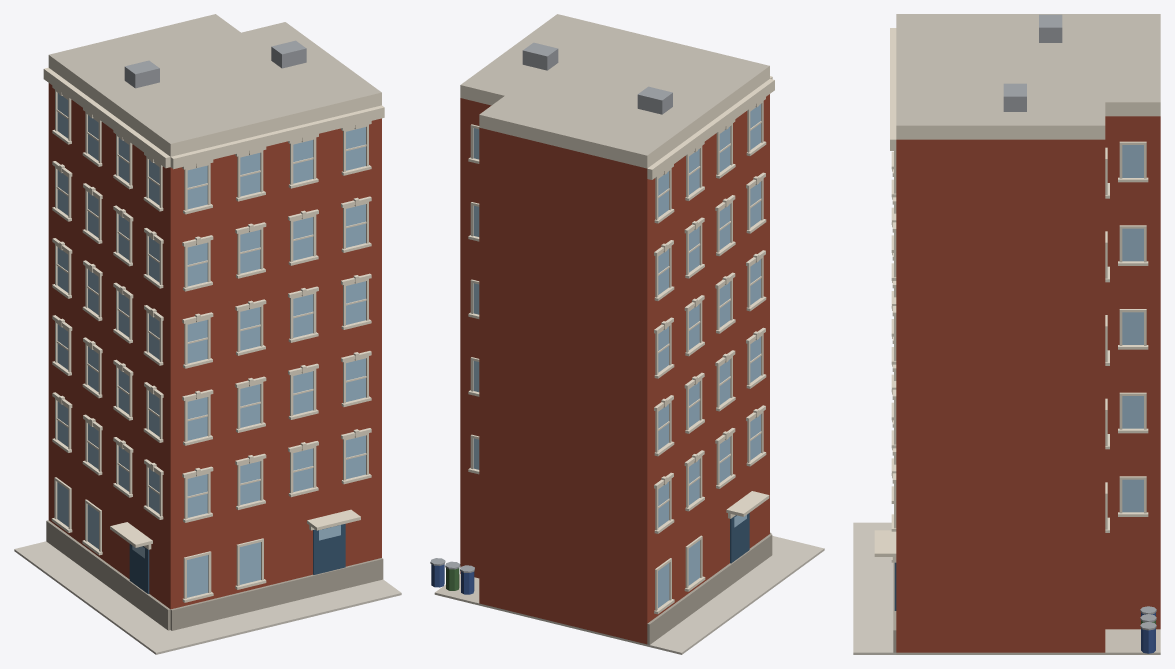
Rendered from Blok_kose_6k_2_Hafif.fbx.
The picture shows the model from 3 angles, left to right: view 1: azimuth 30°, elevation 25°; view 2: azimuth 150°, elevation 25°; view 3: azimuth 270°, elevation 25°; orthographic projection. The views are drawn at different scales.
Visible parts, largest first — view 1: Blok_kose_6k_2_Hafif; view 2: Blok_kose_6k_2_Hafif; view 3: Blok_kose_6k_2_Hafif.
Boxes of the visible parts, <box> form: Blok_kose_6k_2_Hafif: <box>14,14,401,654</box>; Blok_kose_6k_2_Hafif: <box>430,14,824,654</box>; Blok_kose_6k_2_Hafif: <box>853,14,1160,654</box>.
Bounding box in the file's own units: 10.37 × 19.53 × 10.
